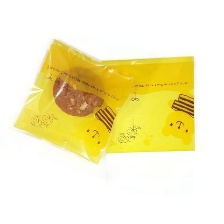snack: (8, 34, 139, 169), (94, 51, 199, 158)
